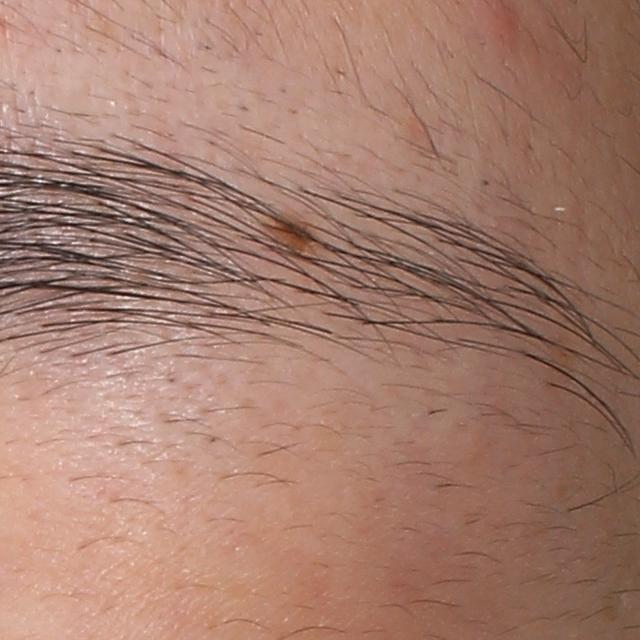nevus: (278, 213, 309, 250)
